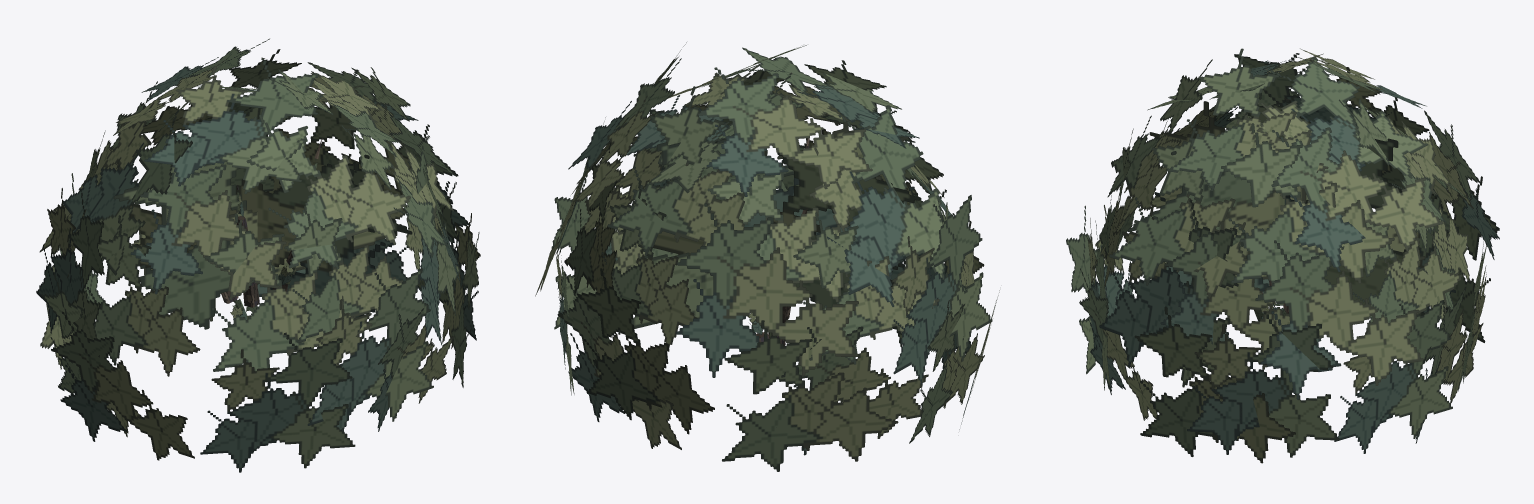
File: SM_CV_GoblinBush.fbx
The picture shows the model from 3 angles, left to right: view 1: azimuth 30°, elevation 25°; view 2: azimuth 150°, elevation 25°; view 3: azimuth 270°, elevation 25°; orthographic projection. The views are drawn at different scales.
Visible parts, largest first — view 1: CV_GoblinBush_Leaves, CV_GoblinBush_Stems; view 2: CV_GoblinBush_Leaves; view 3: CV_GoblinBush_Leaves.
Boxes of the visible parts, x1,y1,x2,y2 form: CV_GoblinBush_Leaves: (36, 38, 480, 472); CV_GoblinBush_Stems: (221, 138, 322, 319); CV_GoblinBush_Leaves: (535, 42, 999, 471); CV_GoblinBush_Leaves: (1066, 48, 1499, 463).
Bounding box in the file's own units: 2.57 × 1.97 × 2.34.
